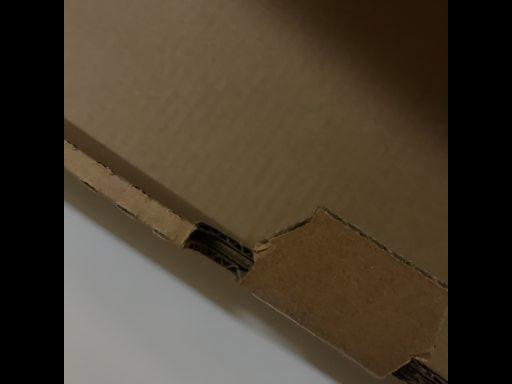cardboard: (71, 4, 445, 382)
